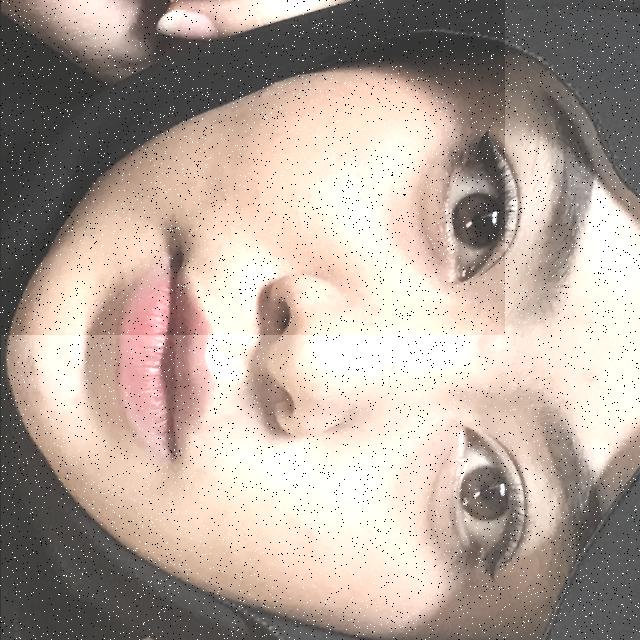ibu: (0, 0, 504, 335)
